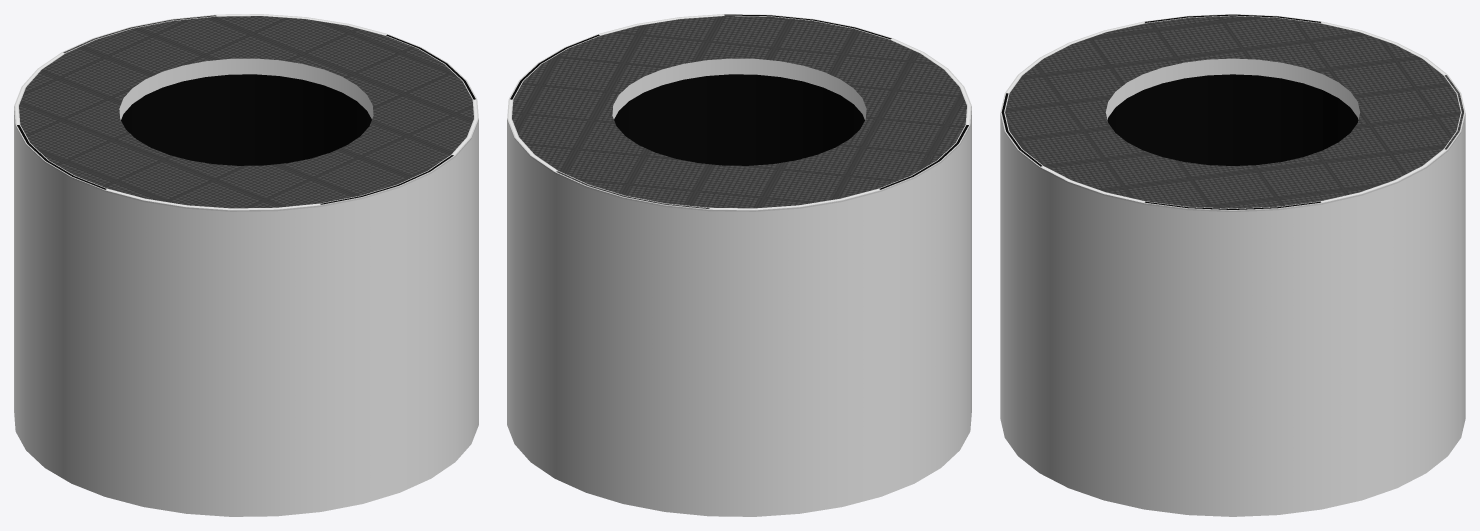
The model's file is CylindreExtérieur.fbx.
3 views of the same model, side by side, from view 1: azimuth 30°, elevation 25°; view 2: azimuth 150°, elevation 25°; view 3: azimuth 270°, elevation 25° (orthographic).
Parts seen in each view (by area): view 1: CylindreExtérieur; view 2: CylindreExtérieur; view 3: CylindreExtérieur.
Part boxes in pixels (x1,y1,x2,y2): CylindreExtérieur: [14, 14, 478, 516]; CylindreExtérieur: [507, 14, 971, 516]; CylindreExtérieur: [1000, 14, 1465, 516].
Bounding box in the file's own units: 16203 × 11768 × 16203.
3 materials, 1 textured.
